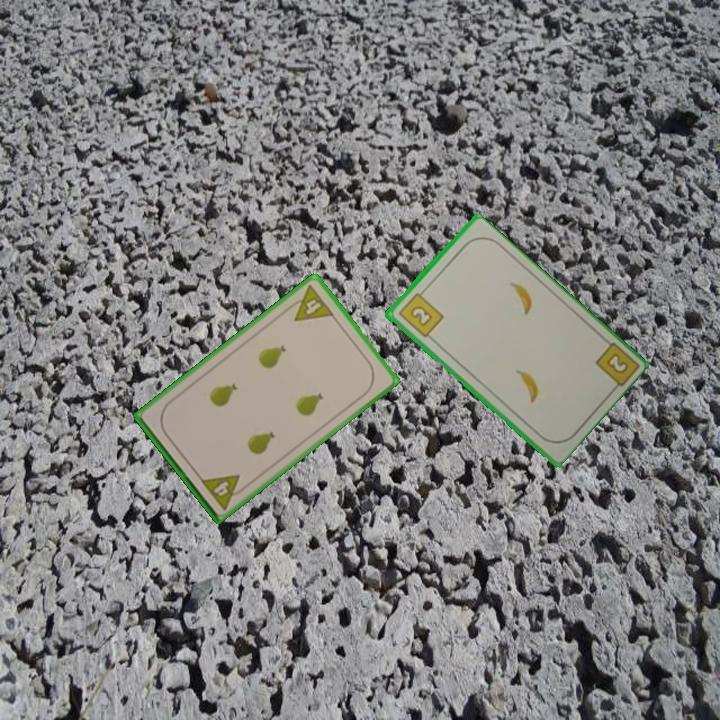2b: (394, 286, 446, 340), (602, 349, 631, 377)
4p: (283, 281, 337, 324), (197, 470, 250, 513)
